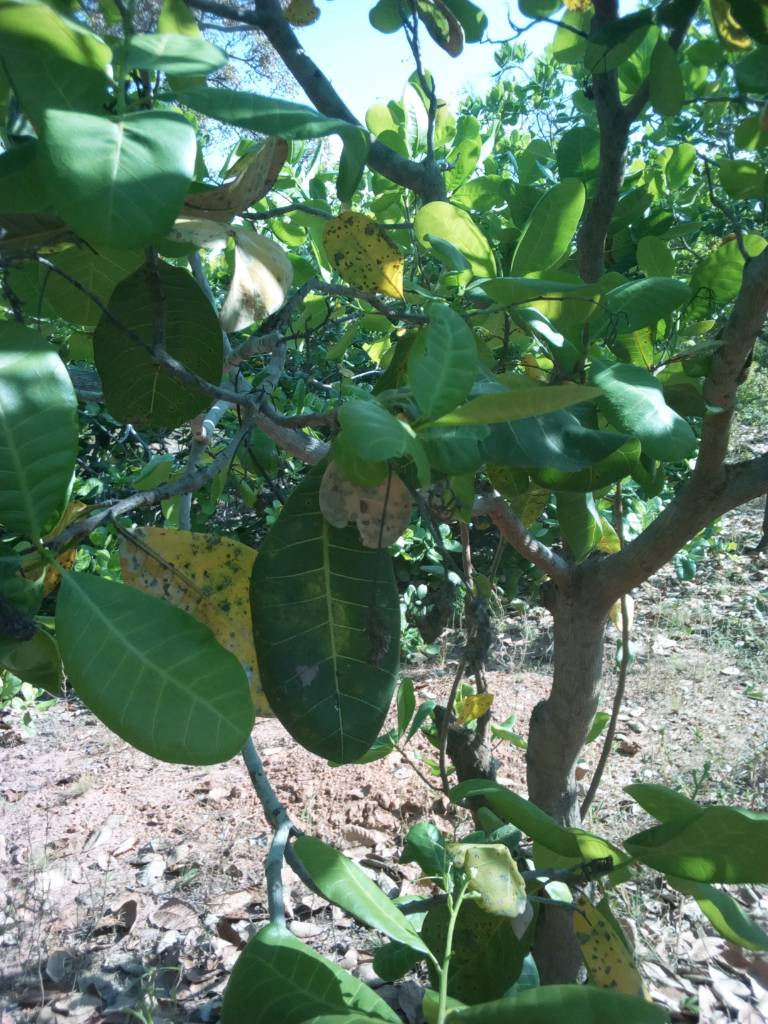Bactériose: (115, 527, 282, 669), (318, 210, 400, 303), (313, 469, 410, 546), (574, 888, 638, 992)
